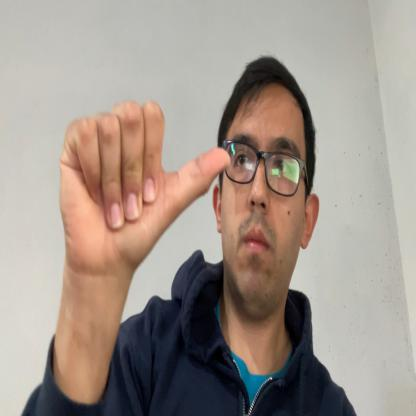A: (61, 99, 231, 274)
